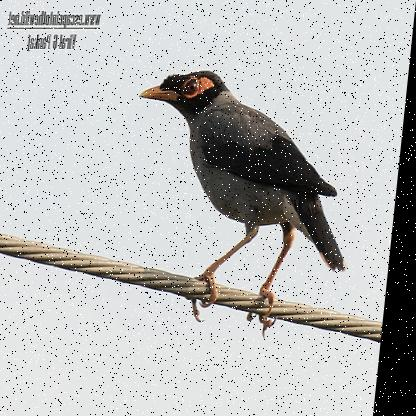Burung: (119, 66, 371, 330)
